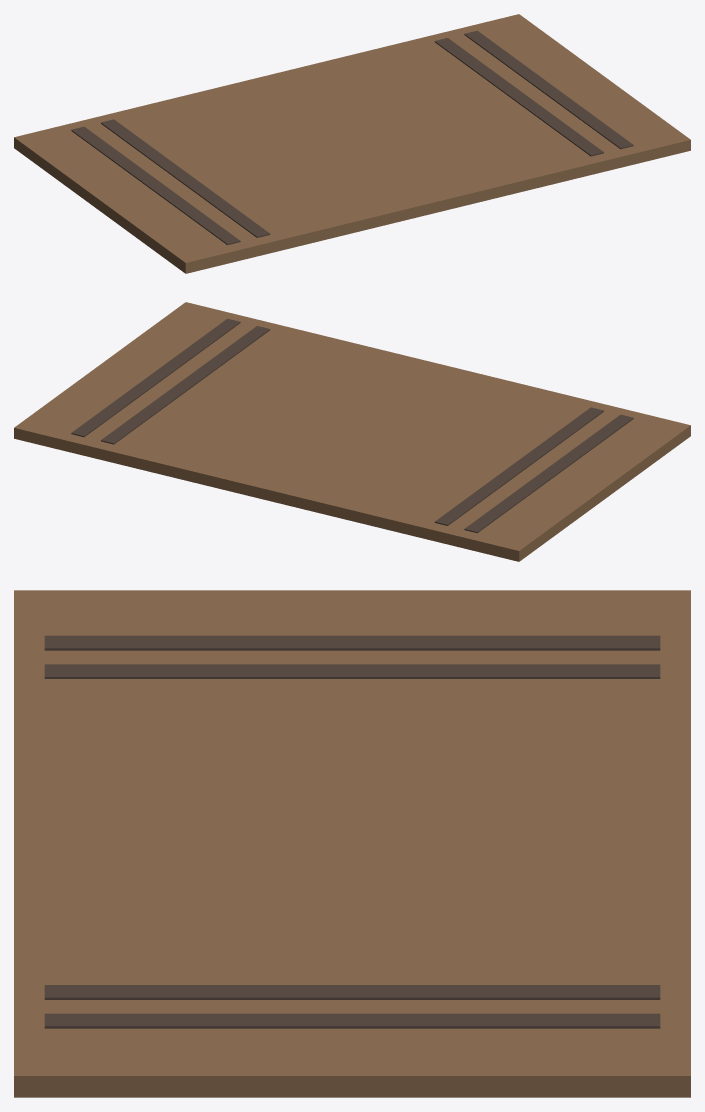
Rendered from entry_mat.glb.
The picture shows the model from 3 angles, top to bottom: view 1: azimuth 30°, elevation 25°; view 2: azimuth 150°, elevation 25°; view 3: azimuth 270°, elevation 25°; orthographic projection. The views are drawn at different scales.
Parts seen in each view (by area): view 1: Coir mat, Woven stripe.003, Woven stripe, Woven stripe.002, Woven stripe.001; view 2: Coir mat, Woven stripe.003, Woven stripe, Woven stripe.002, Woven stripe.001; view 3: Coir mat, Woven stripe, Woven stripe.003, Woven stripe.001, Woven stripe.002.
Boxes of the visible parts, <box> form: Coir mat: <box>14,14,690,273</box>; Woven stripe.003: <box>464,30,633,149</box>; Woven stripe: <box>71,126,240,245</box>; Woven stripe.002: <box>434,38,603,156</box>; Woven stripe.001: <box>101,119,270,237</box>; Coir mat: <box>14,302,690,561</box>; Woven stripe.003: <box>71,318,240,437</box>; Woven stripe: <box>464,414,633,533</box>; Woven stripe.002: <box>101,326,270,444</box>; Woven stripe.001: <box>434,407,603,525</box>; Coir mat: <box>14,590,690,1097</box>; Woven stripe: <box>44,635,660,650</box>; Woven stripe.003: <box>44,1013,660,1028</box>; Woven stripe.001: <box>44,664,660,678</box>; Woven stripe.002: <box>44,985,660,999</box>.
Size of the model in its own units: 0.92 by 0.021 by 0.542.
